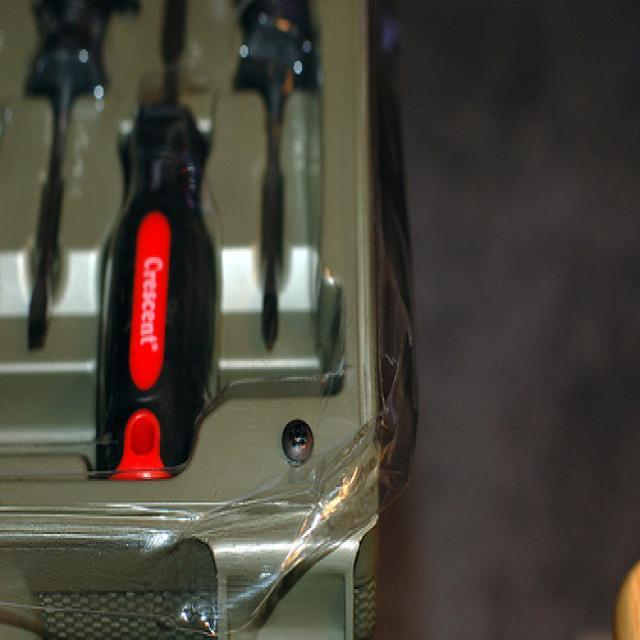screwdriver: (83, 0, 247, 493), (7, 0, 120, 363), (230, 0, 336, 373)
